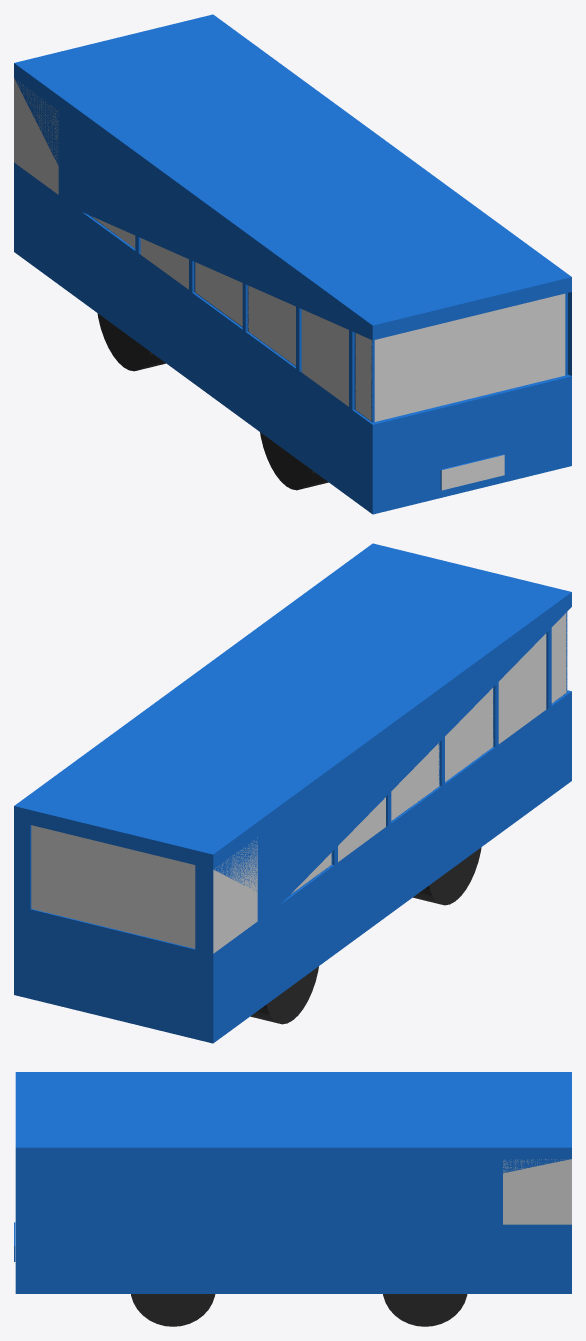
The model's file is bus.fbx.
3 renders of one model, top to bottom at view 1: azimuth 30°, elevation 25°; view 2: azimuth 150°, elevation 25°; view 3: azimuth 270°, elevation 25°, orthographic. The views are drawn at different scales.
Visible parts, largest first — view 1: Cube.001, Cube.136, Cube.142, Cube.139, Cube.140, Cube.003, Cube.002, Cylinder.001, Cylinder, Cube.138, Cube.004; view 2: Cube.001, Cube.143, Cube.142, Cube.139, Cube.002, Cube.140, Cube.003, Cylinder, Cylinder.001, Cube.138, Cube.004; view 3: Cube.001, Cube.135, Cylinder.003, Cylinder.002.
Boxes of the visible parts, x1,y1,x2,y2 form: Cube.001: [14, 14, 571, 514]; Cube.136: [374, 293, 565, 421]; Cube.142: [14, 78, 58, 194]; Cube.139: [247, 286, 295, 365]; Cube.140: [194, 262, 242, 326]; Cube.003: [301, 309, 326, 389]; Cube.002: [326, 320, 348, 406]; Cylinder.001: [97, 313, 165, 371]; Cylinder: [260, 432, 328, 490]; Cube.138: [354, 333, 372, 421]; Cube.004: [166, 249, 188, 289]; Cube.001: [14, 543, 571, 1043]; Cube.143: [31, 825, 195, 948]; Cube.142: [213, 837, 257, 953]; Cube.139: [445, 688, 493, 781]; Cube.002: [521, 633, 546, 727]; Cube.140: [391, 742, 439, 821]; Cube.003: [498, 659, 521, 743]; Cylinder: [413, 847, 481, 905]; Cylinder.001: [250, 966, 318, 1024]; Cube.138: [551, 613, 567, 703]; Cube.004: [361, 797, 385, 844]; Cube.001: [14, 1072, 571, 1293]; Cube.135: [503, 1159, 571, 1224]; Cylinder.003: [383, 1294, 467, 1326]; Cylinder.002: [131, 1294, 215, 1326].
Size of the model in its own units: 245 by 281 by 767.
